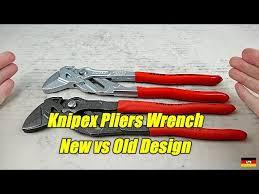pliers: (20, 95, 247, 140), (40, 65, 229, 102)
